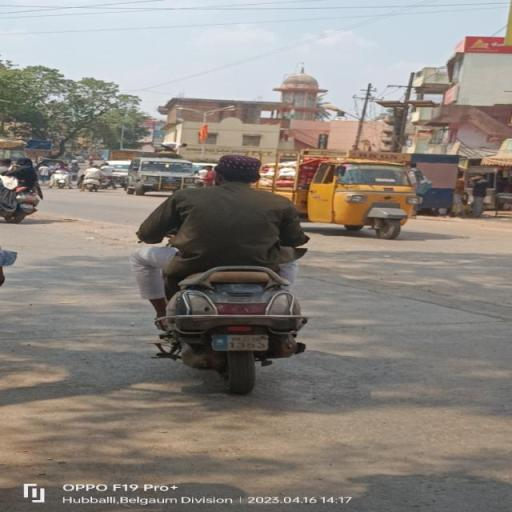bike: (116, 154, 326, 398)
numberplate: (210, 334, 270, 352)
withouthelmet: (216, 157, 260, 183)
